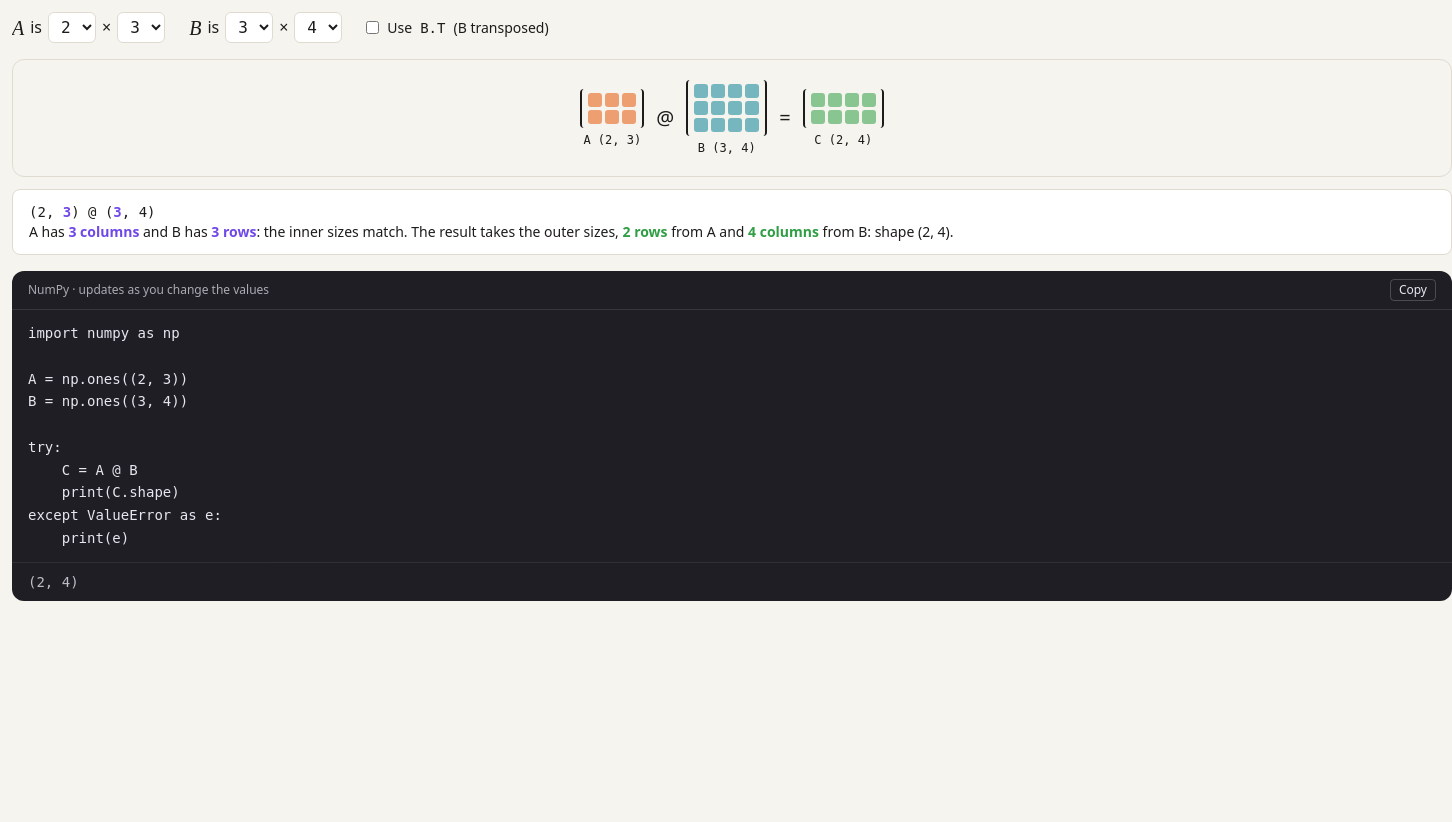
Test case: ShapePicker › shows the result shape, then NumPy’s error on a mismatch
This screenshot has width=1452, height=822.
Expected: the text named "Output" reads "(2, 4)", [28,574,79,590]
Select "2" in the 3rd dropdown named "Rows of B" at (249, 28), box [225,12,273,43]
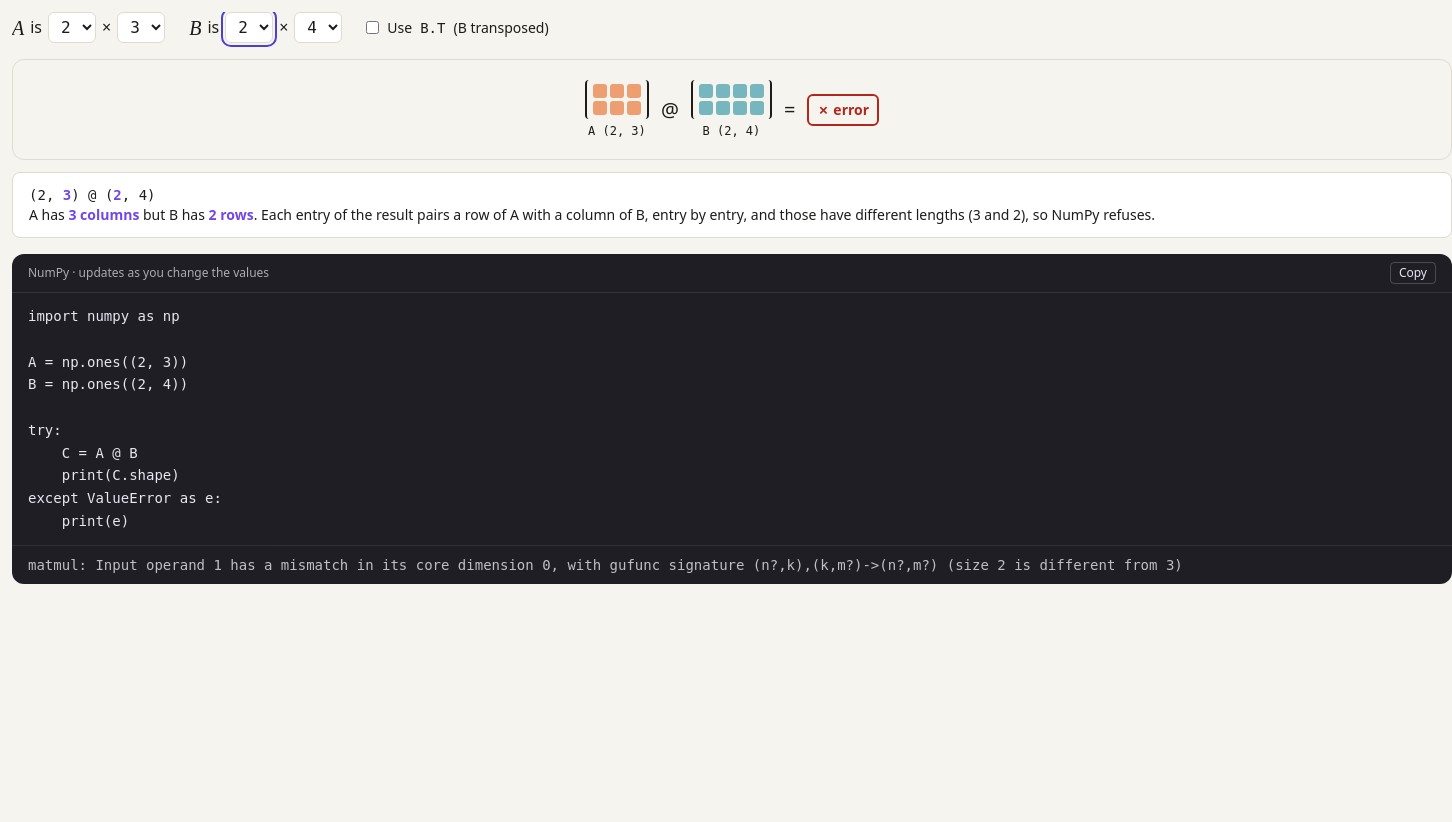
Result: the text named "Output" shows "size 2 is different from 3)" at [28,556,1183,572]
Result: the text "so NumPy refuses" is shown at [1021,205,1155,224]
